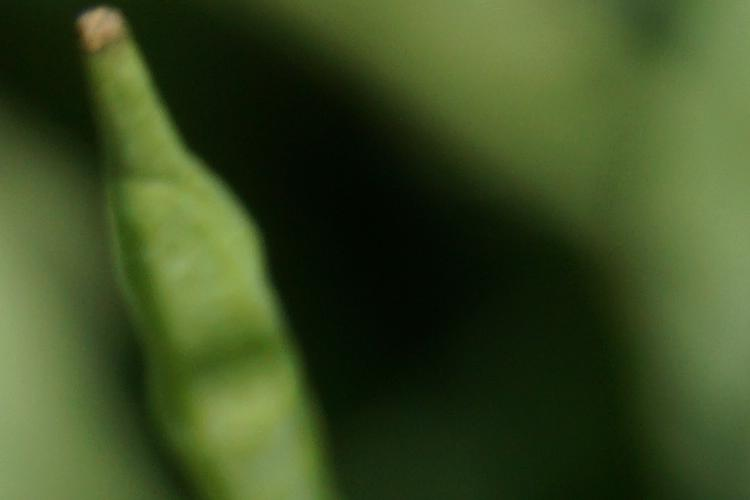bud: (58, 6, 306, 405)
